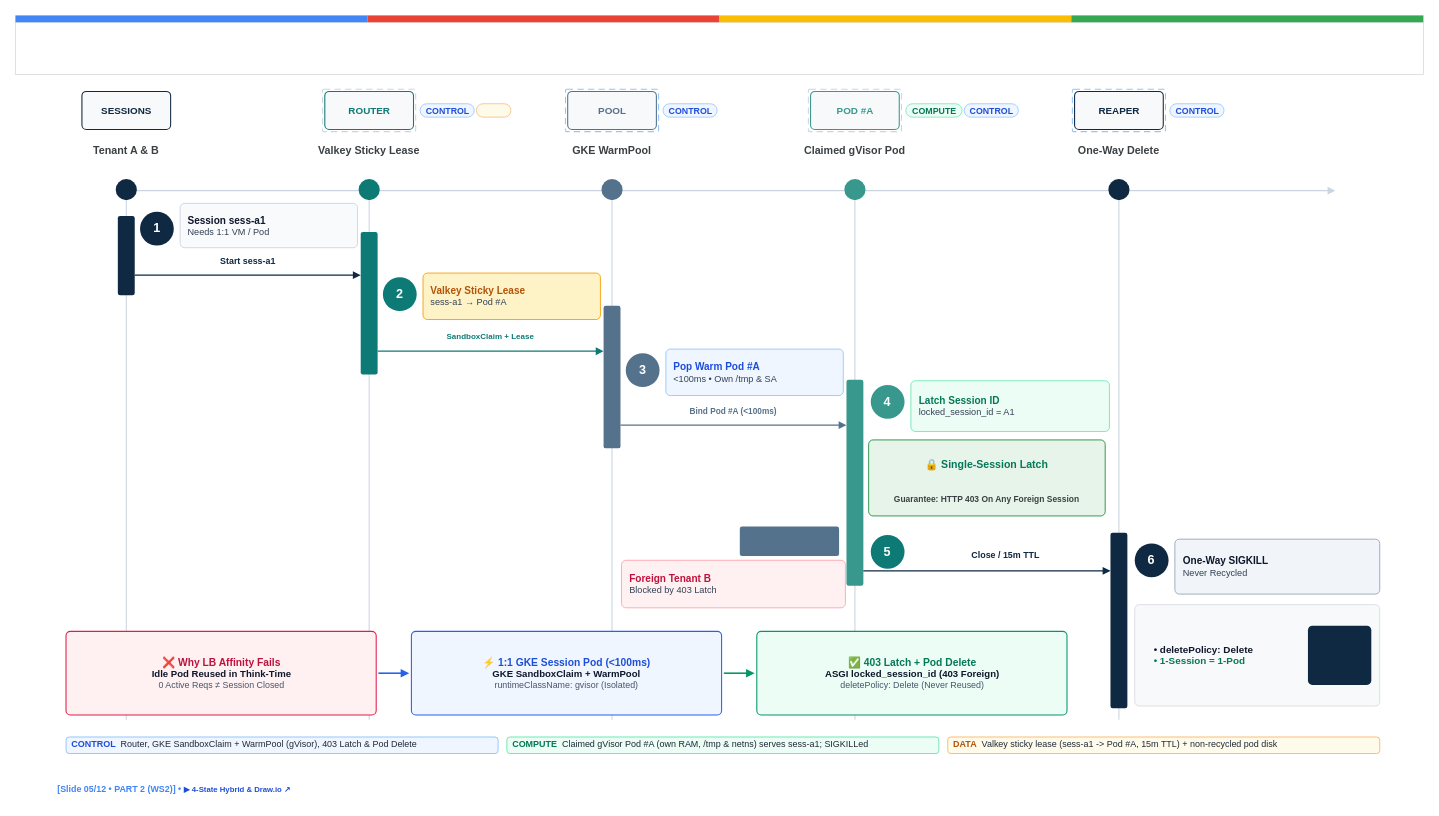
The diagram is 1439 pixels wide and 816 high, and some of its shapes have lost their labels. The centre of each missing label's shape, as x and y in pixels:
"403 Latch" goes at (x=789, y=541).
"DATA" goes at (x=493, y=110).
"POD DEL" goes at (x=1339, y=654).
"WS2 - PART 2 (Mode B) - Stateful Session Pod WarmPool & 403 Latch" goes at (x=719, y=48).
